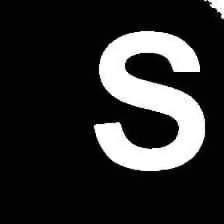LTR_S: (89, 19, 208, 175)
